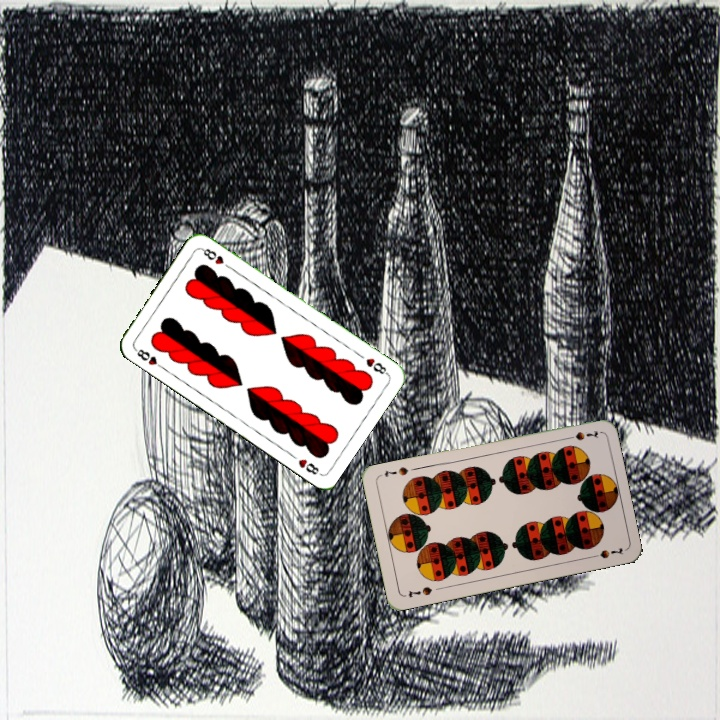H8: (130, 344, 166, 372), (362, 354, 391, 377)
S7: (561, 426, 601, 443), (404, 582, 435, 600)
